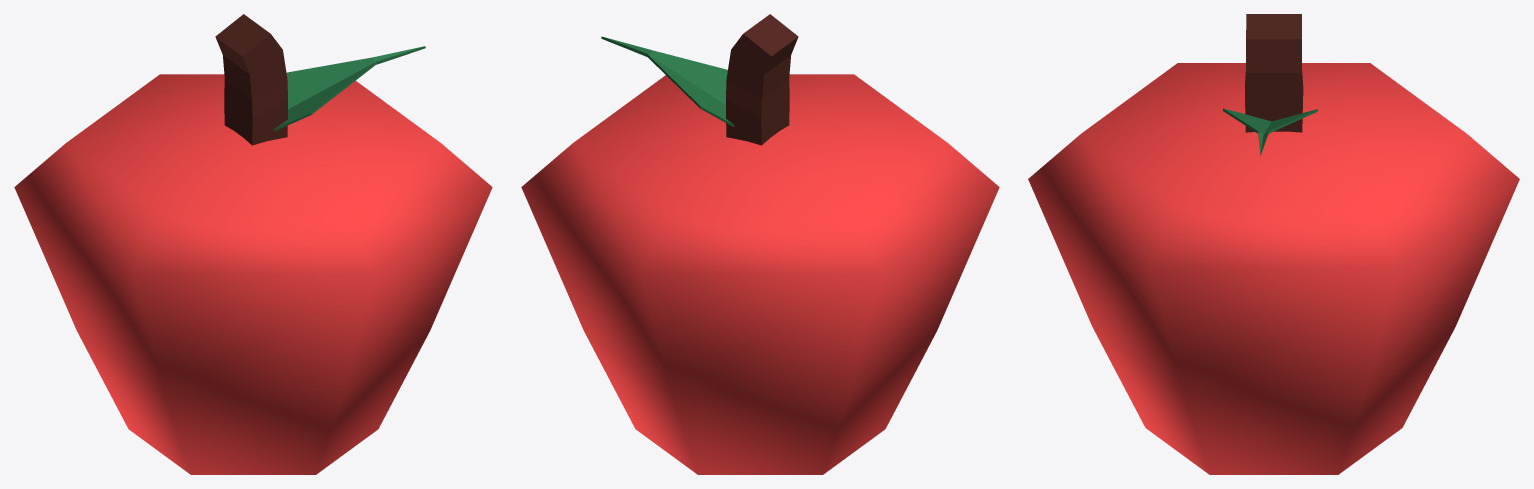
The model's file is veggie_3.FBX.
3 renders of one model, left to right at view 1: azimuth 30°, elevation 25°; view 2: azimuth 150°, elevation 25°; view 3: azimuth 270°, elevation 25°, orthographic. The views are drawn at different scales.
Parts seen in each view (by area): view 1: veggie_3; view 2: veggie_3; view 3: veggie_3.
Boxes of the visible parts, left/top/right/bottom form: veggie_3: left=14, top=14, right=492, bottom=474; veggie_3: left=521, top=14, right=999, bottom=474; veggie_3: left=1028, top=14, right=1519, bottom=474.
Bounding box in the file's own units: 0.1648 × 0.1775 × 0.1903.
1 material, 1 textured.
